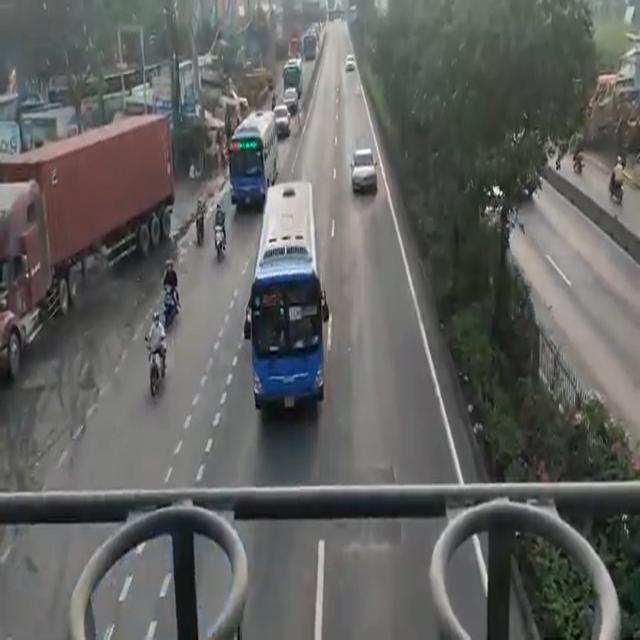bus: (252, 186, 326, 410), (226, 107, 267, 202)
car: (346, 141, 379, 202)
motor: (138, 313, 166, 407), (158, 255, 180, 327), (212, 196, 230, 264), (607, 153, 627, 207), (191, 188, 204, 252)
truck: (0, 117, 171, 341)
